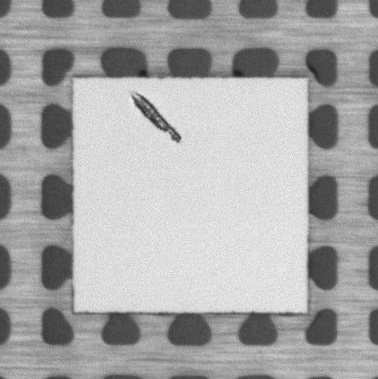DIE_INK: (126, 88, 186, 148)
